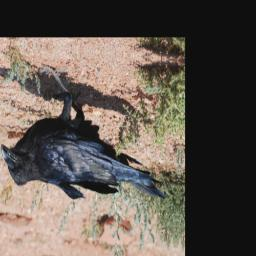Crow: (0, 58, 175, 211)
